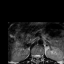CCS_normal: (36, 52, 38, 62)
LFS_normal: (40, 51, 42, 59)
LLS_normal: (38, 52, 40, 59)
RFS_normal: (32, 52, 34, 59)
RLS_normal: (34, 52, 36, 60)
